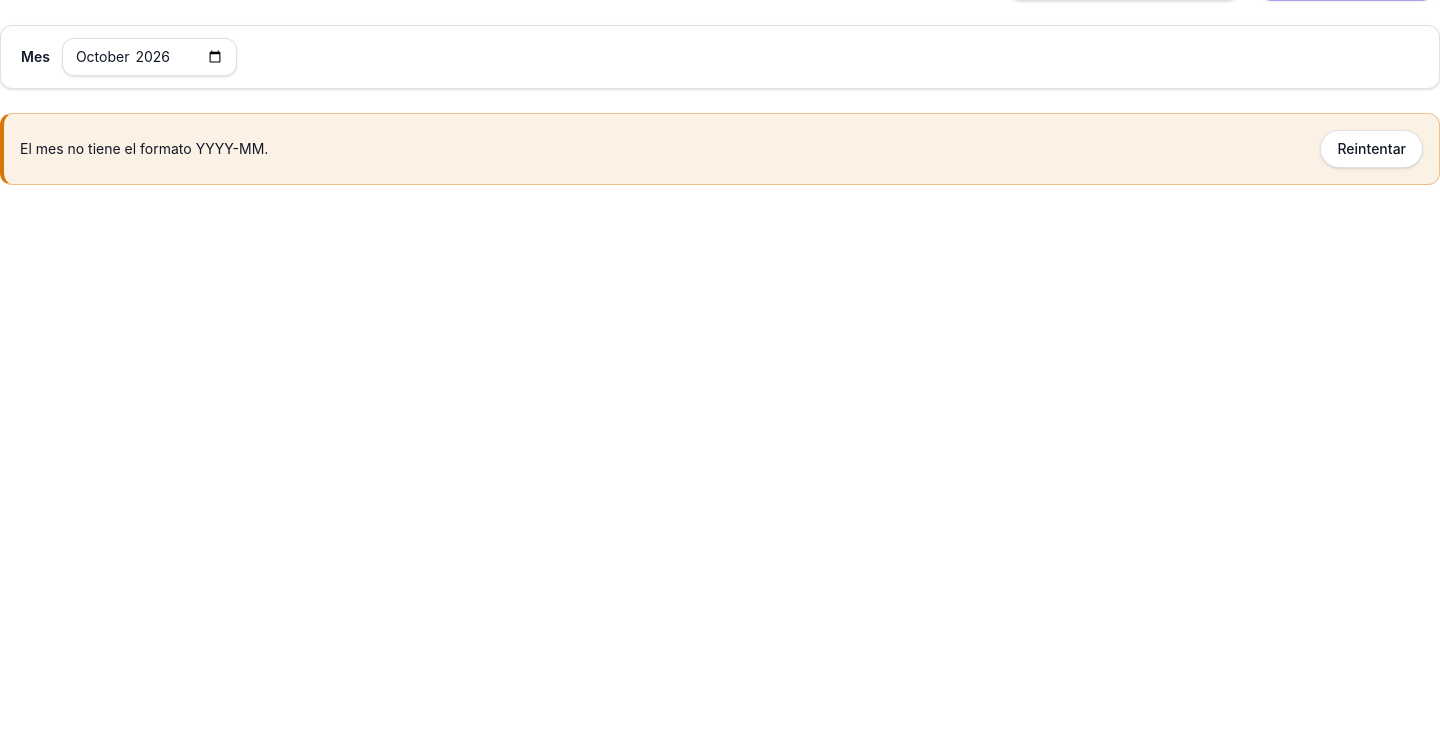
Test case: DashboardPage › error → ErrorAlert con el mensaje del servidor y Reintentar vuelve a pedir
The image size is (1440, 751).
Expected: the message shows "El mes no tiene el formato YYYY-MM.", [20,140,268,157]
Click the button "Reintentar" at (1372, 149), box [1320,130,1423,168]
(page scrolled)
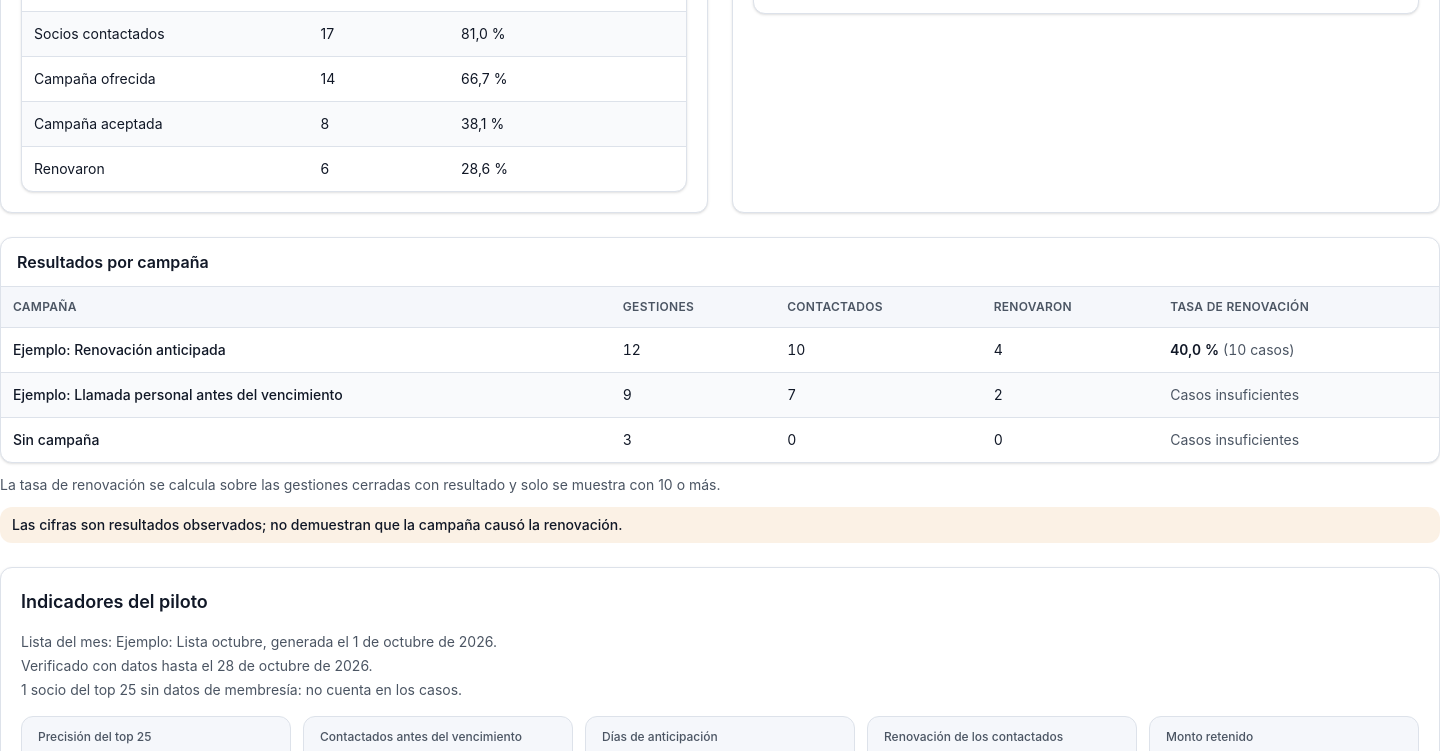
Expected: the table "Resultados por campaña" is shown, [1,238,1439,462]
Expected: the message "El mes no tiene el formato YYYY-MM. Reintentar" is gone
